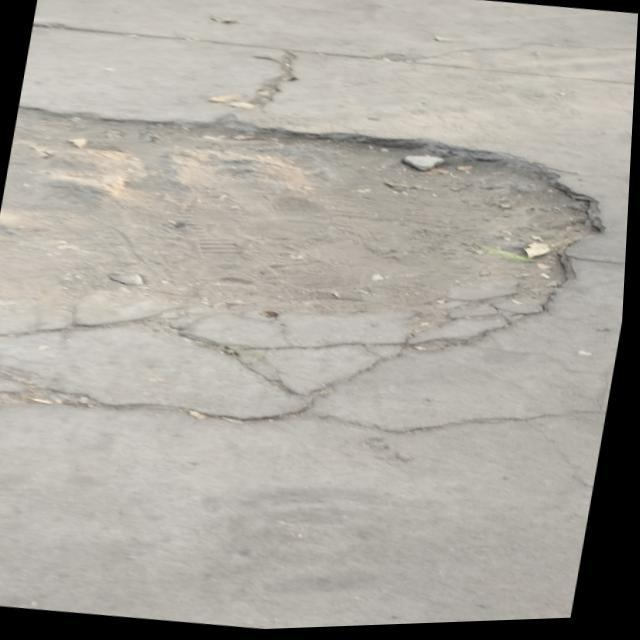hole: (0, 82, 620, 368)
